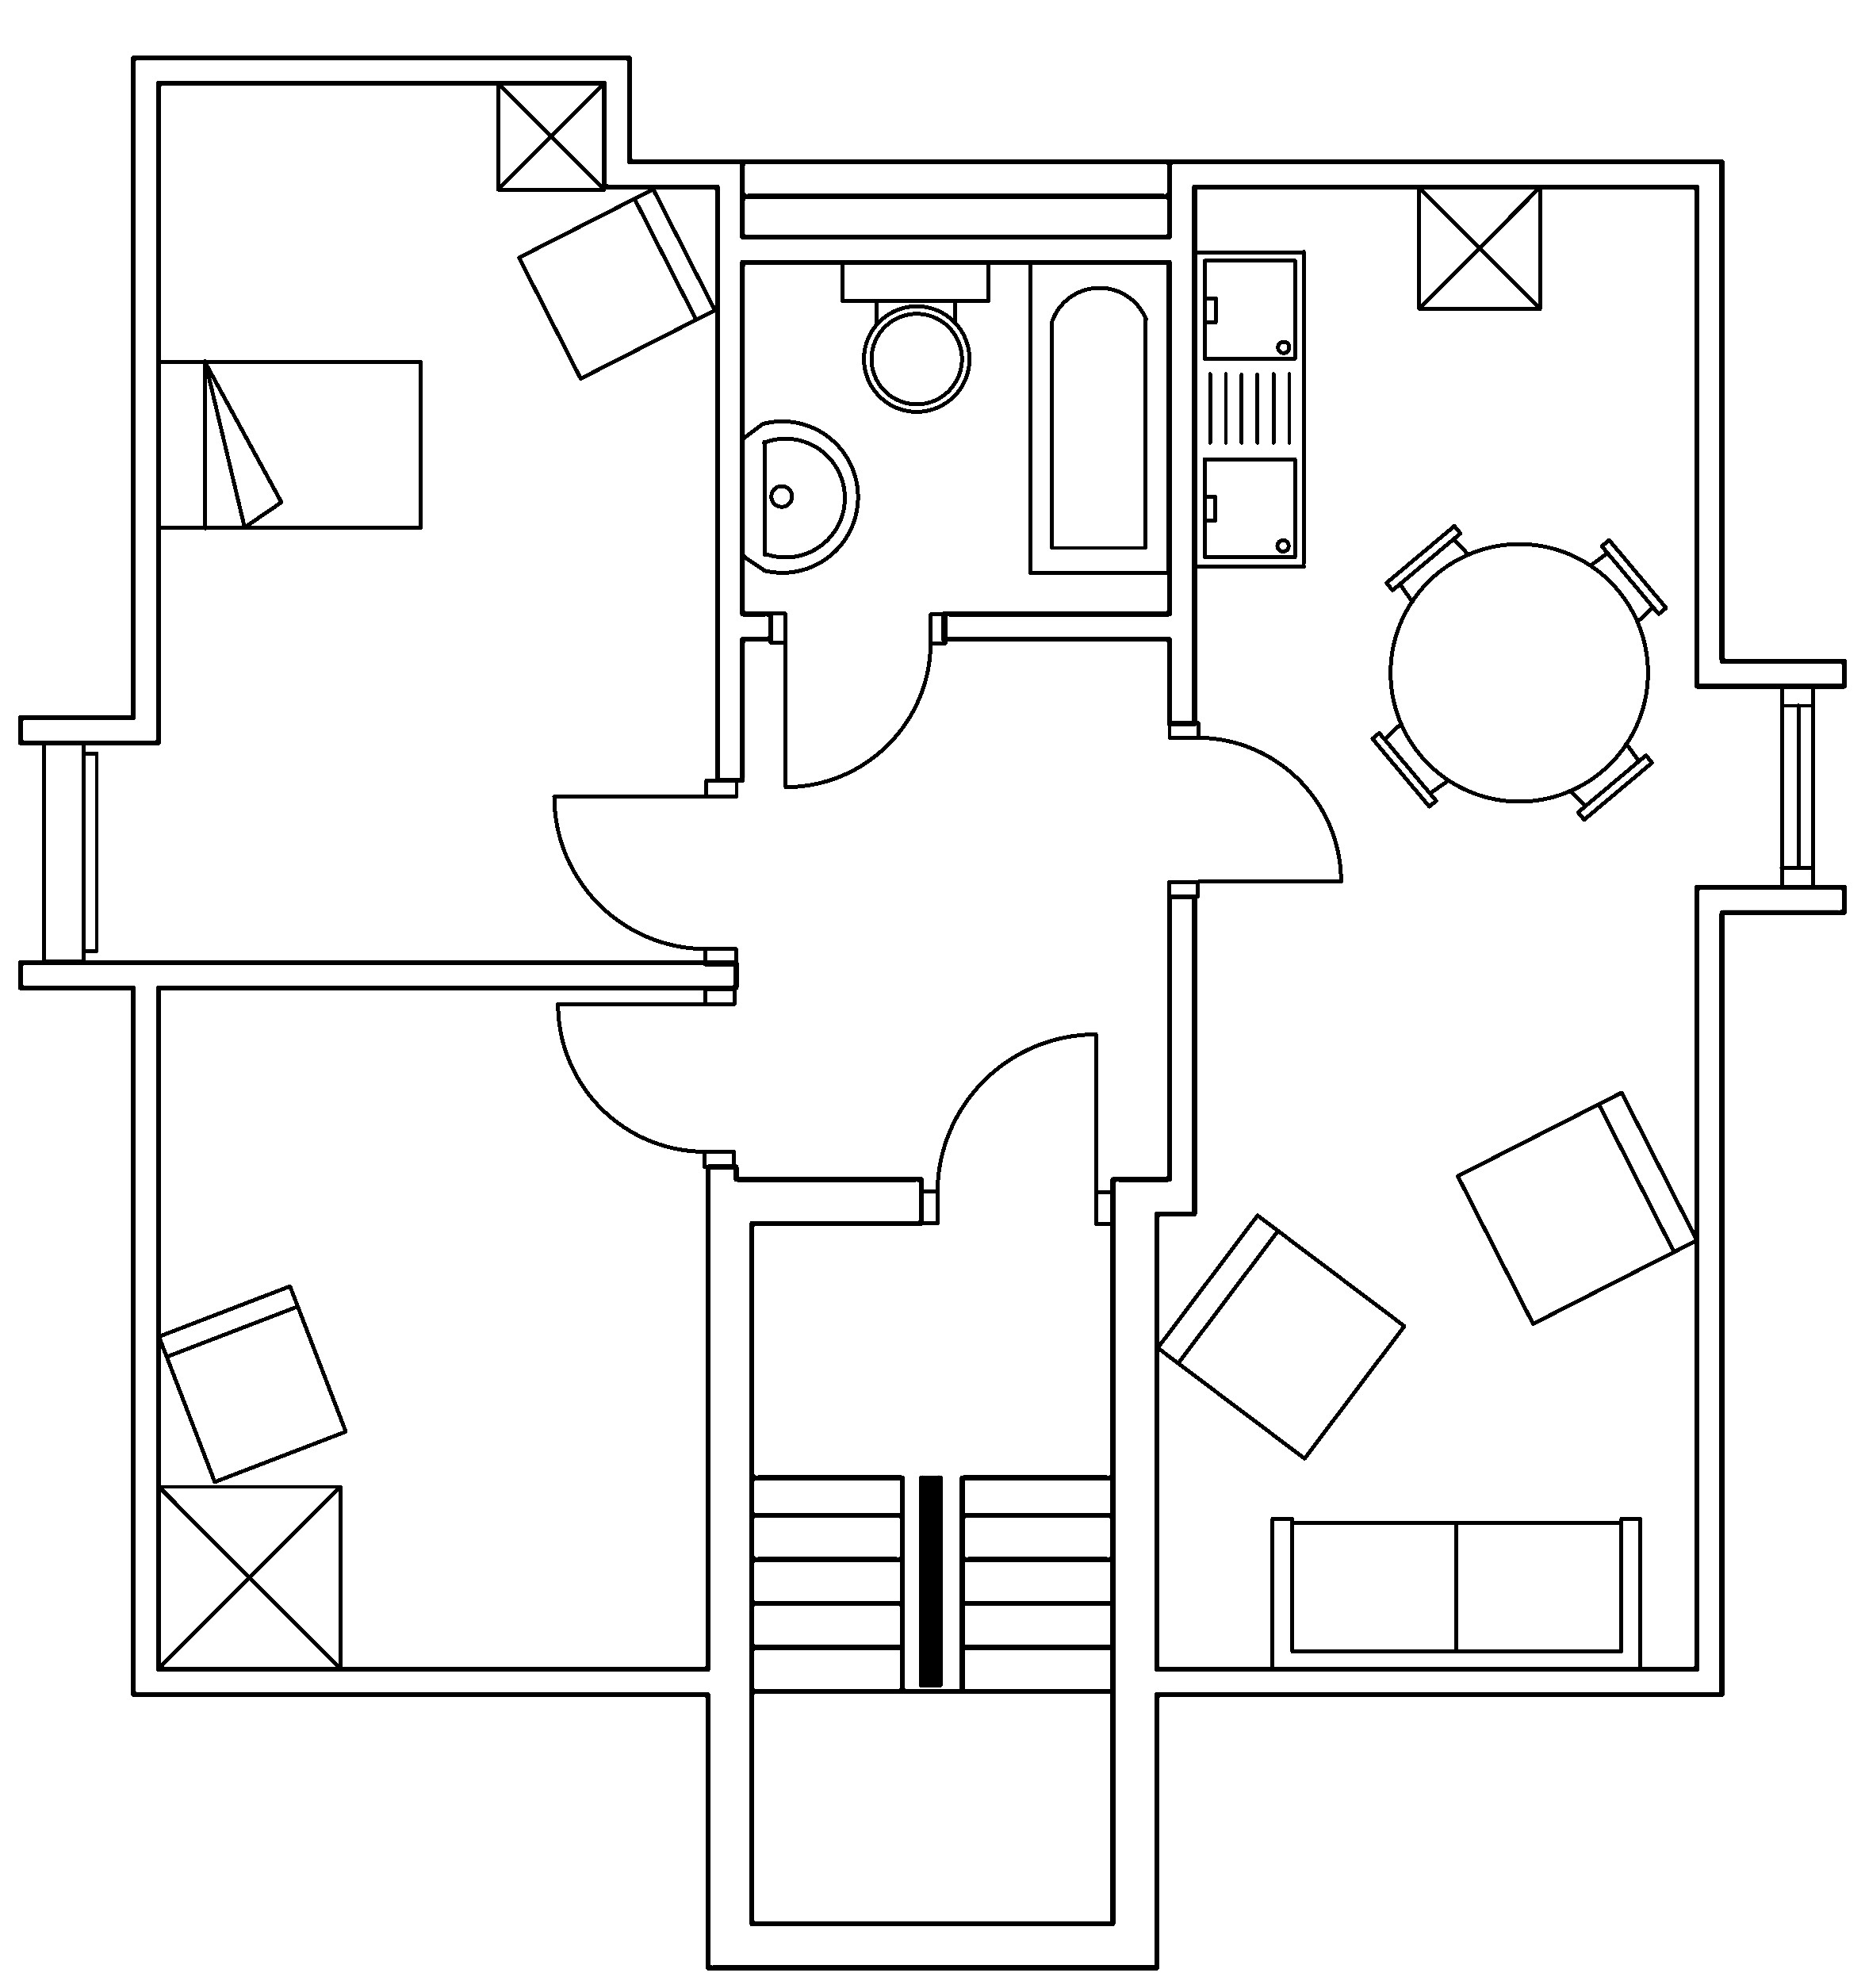bed: (154, 358, 424, 531)
coffee_table: (154, 1481, 342, 1671), (1416, 182, 1542, 310), (494, 79, 606, 191)
large_sink: (840, 258, 990, 412)
large_sofa: (1269, 1515, 1642, 1672)
round_table: (1369, 522, 1669, 822)
small_sink: (740, 419, 859, 573)
small_sofa: (1153, 1211, 1408, 1460), (1455, 1089, 1698, 1325), (515, 186, 717, 380), (156, 1282, 349, 1485)
tub: (1027, 258, 1171, 575)
twin_sink: (1192, 247, 1308, 570)
